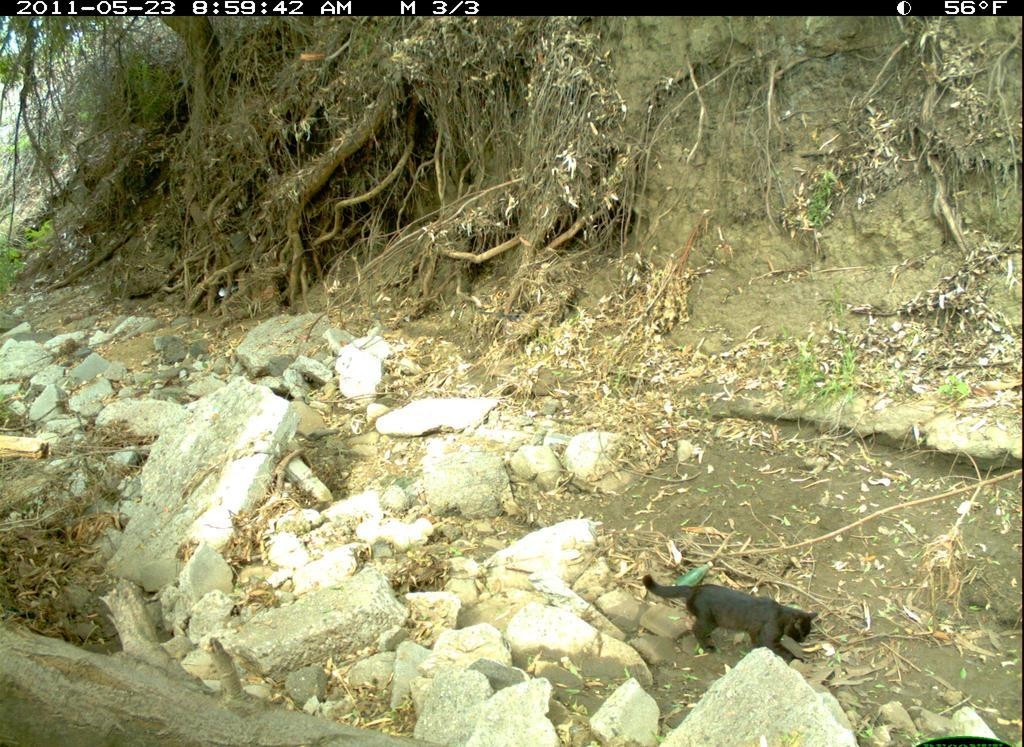cat: (641, 571, 824, 678)
